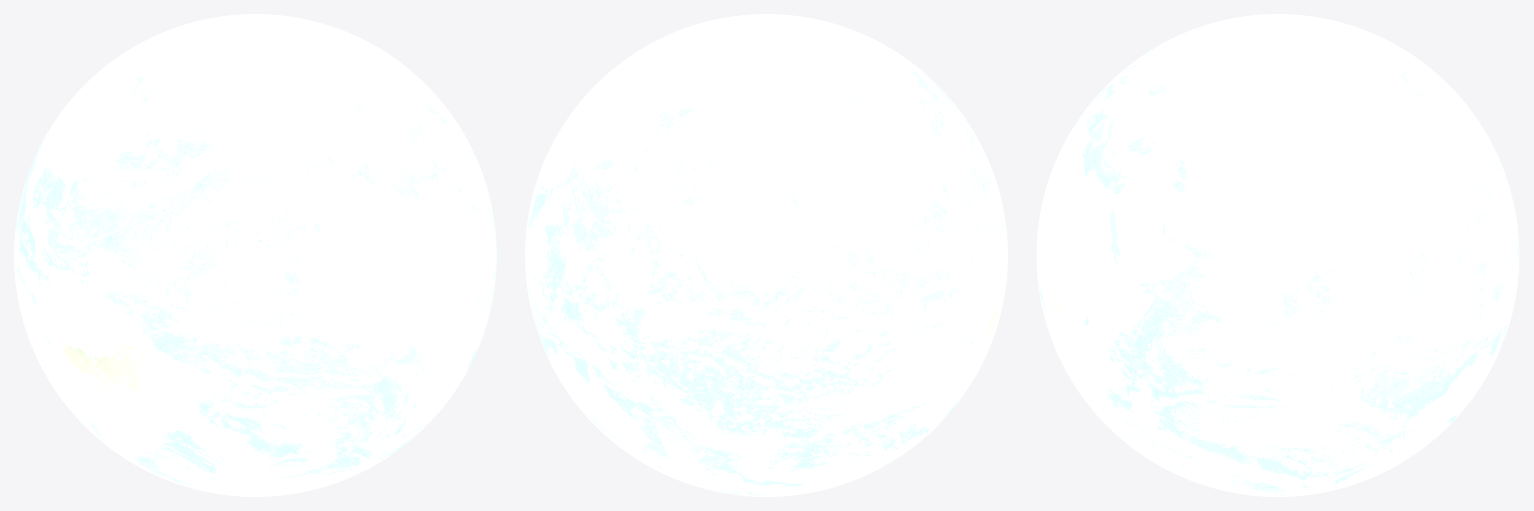
File: 3d_earth.glb
The picture shows the model from 3 angles, left to right: view 1: azimuth 30°, elevation 25°; view 2: azimuth 150°, elevation 25°; view 3: azimuth 270°, elevation 25°; orthographic projection.
Parts seen in each view (by area): view 1: Sphere; view 2: Sphere; view 3: Sphere.
Boxes of the visible parts, x1,y1,x2,y2 form: Sphere: (14,14,496,496); Sphere: (525,14,1007,496); Sphere: (1036,14,1519,496).
Size of the model in its own units: 1 by 1 by 1.
Materials: 1 (1 with a texture image).
